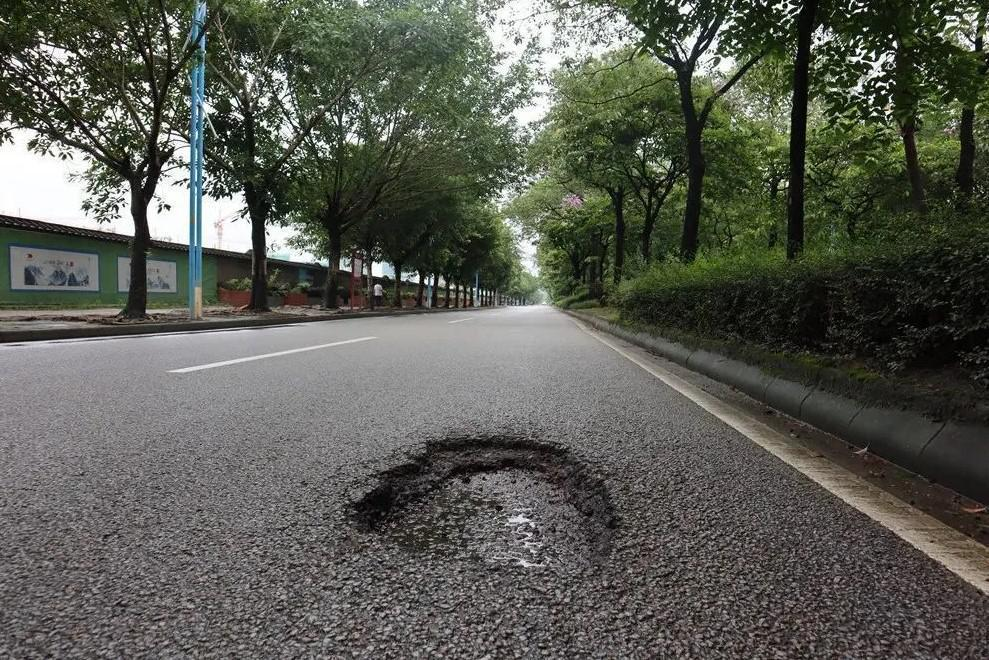pothole: (342, 431, 624, 580)
